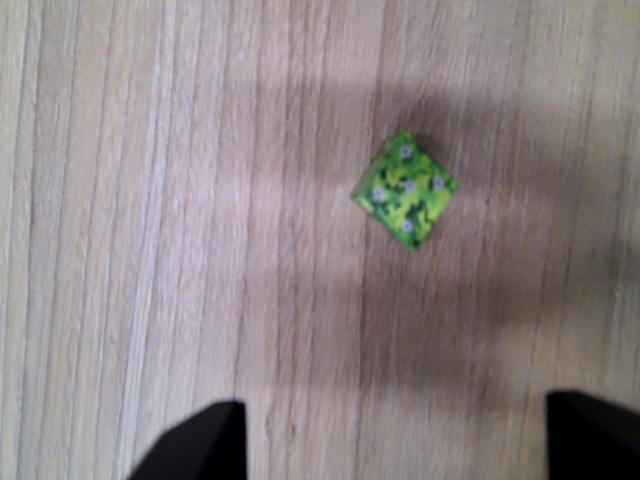grass: (350, 130, 459, 256)
